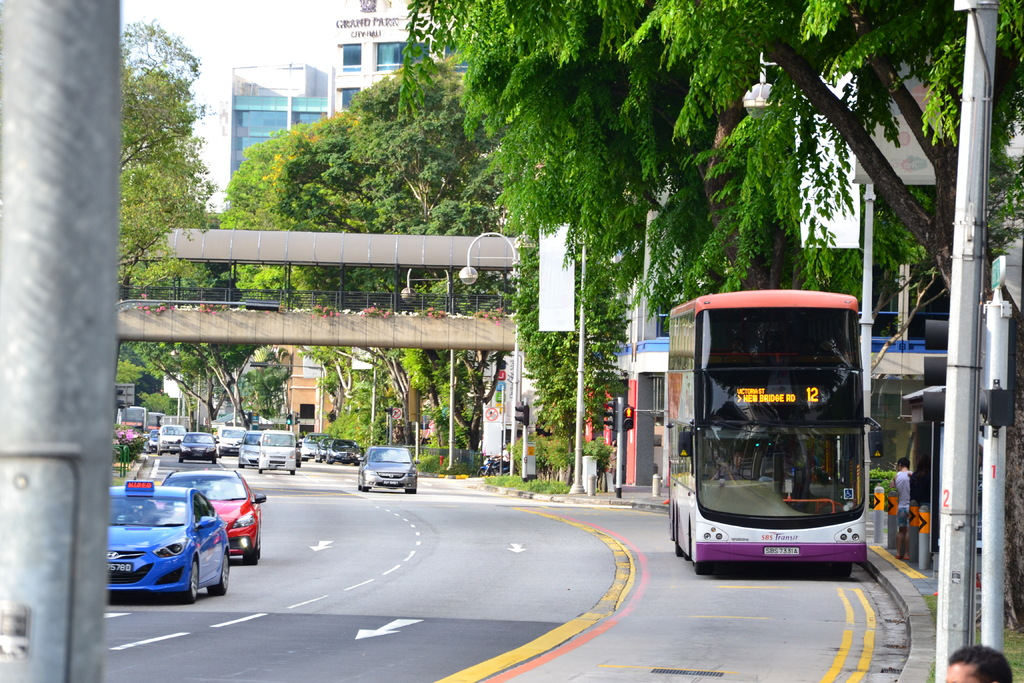car: (654, 291, 878, 591), (107, 480, 232, 604), (158, 466, 268, 564), (358, 445, 418, 493), (257, 430, 300, 474), (116, 401, 150, 443), (177, 431, 219, 463), (237, 431, 263, 468), (326, 439, 362, 465), (216, 426, 247, 456), (157, 424, 188, 454), (301, 438, 321, 461)
